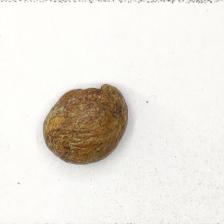NG: (45, 105, 83, 151), (72, 84, 110, 100)
